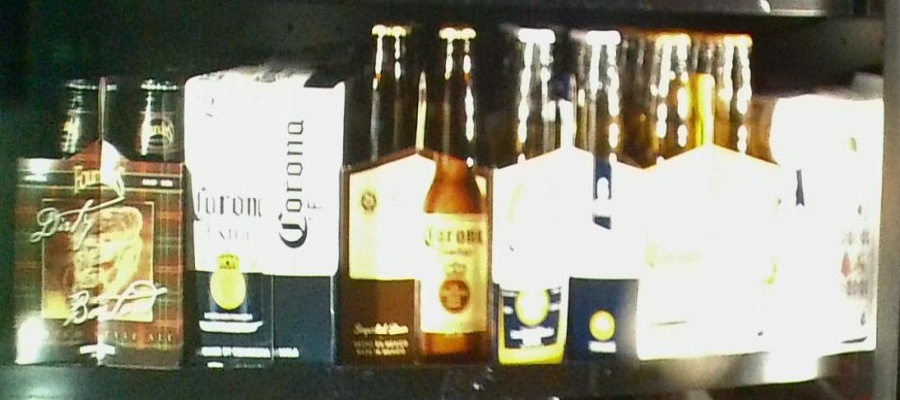bottle: (9, 76, 188, 365), (492, 25, 643, 367), (345, 20, 491, 369), (187, 72, 336, 370), (646, 29, 777, 364), (773, 94, 878, 357)
